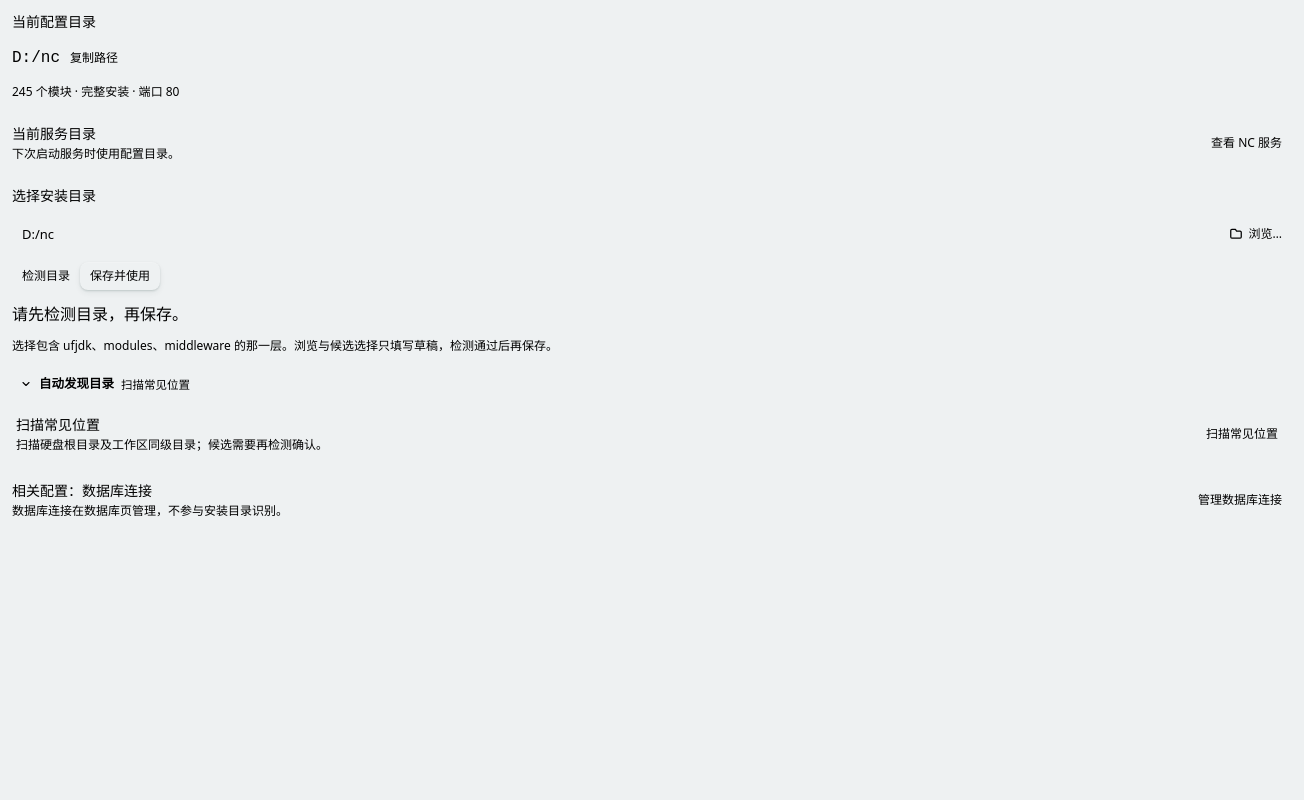
Test: NC 目录检测与确认 › 浏览、候选选择与输入都只形成草稿，检测与确认后才写入
Click the button "浏览…" at (1255,234), box [1218,220,1292,248]
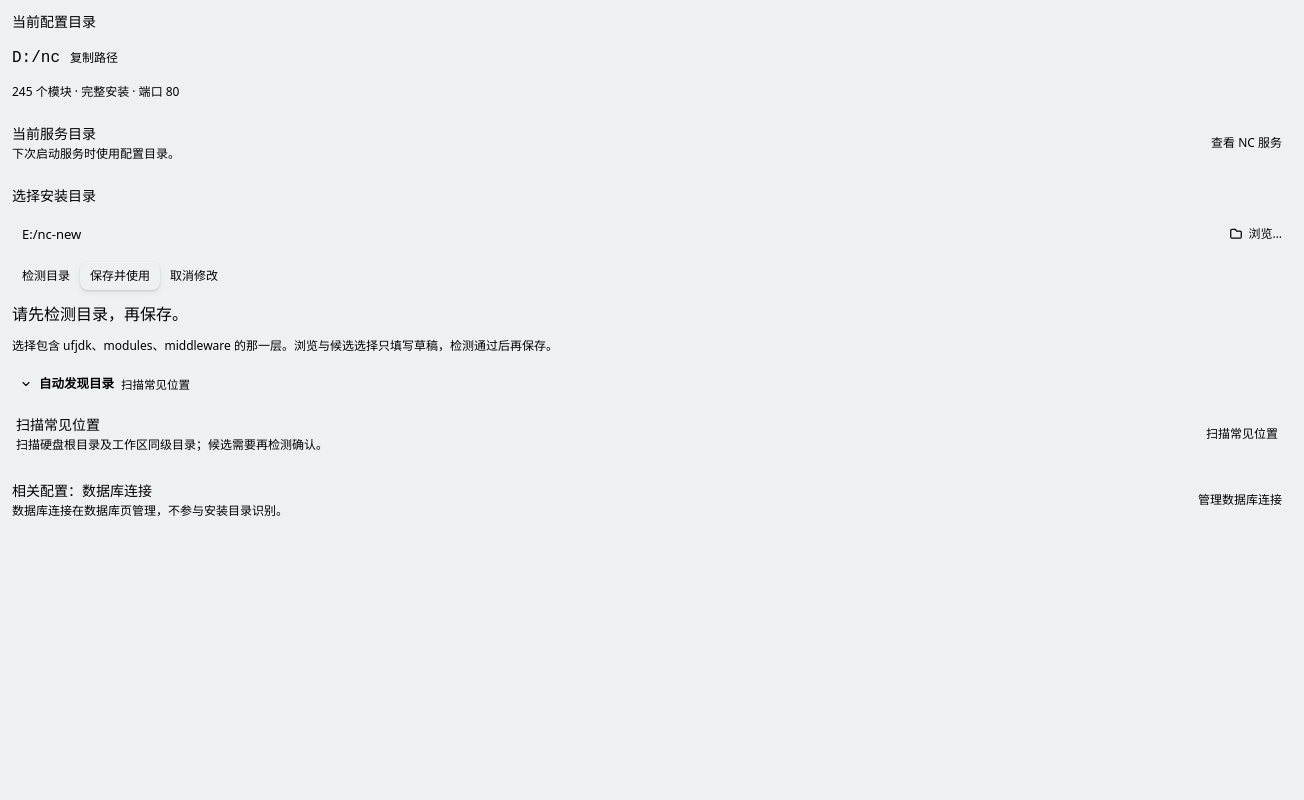
Expected: the button "保存并使用" is disabled, [80,262,160,290]
Expected: the field named "NC 安装目录" holds "E:/nc-new", [12,218,1210,250]
Click the button "检测目录" at (46,276), box [12,262,80,290]
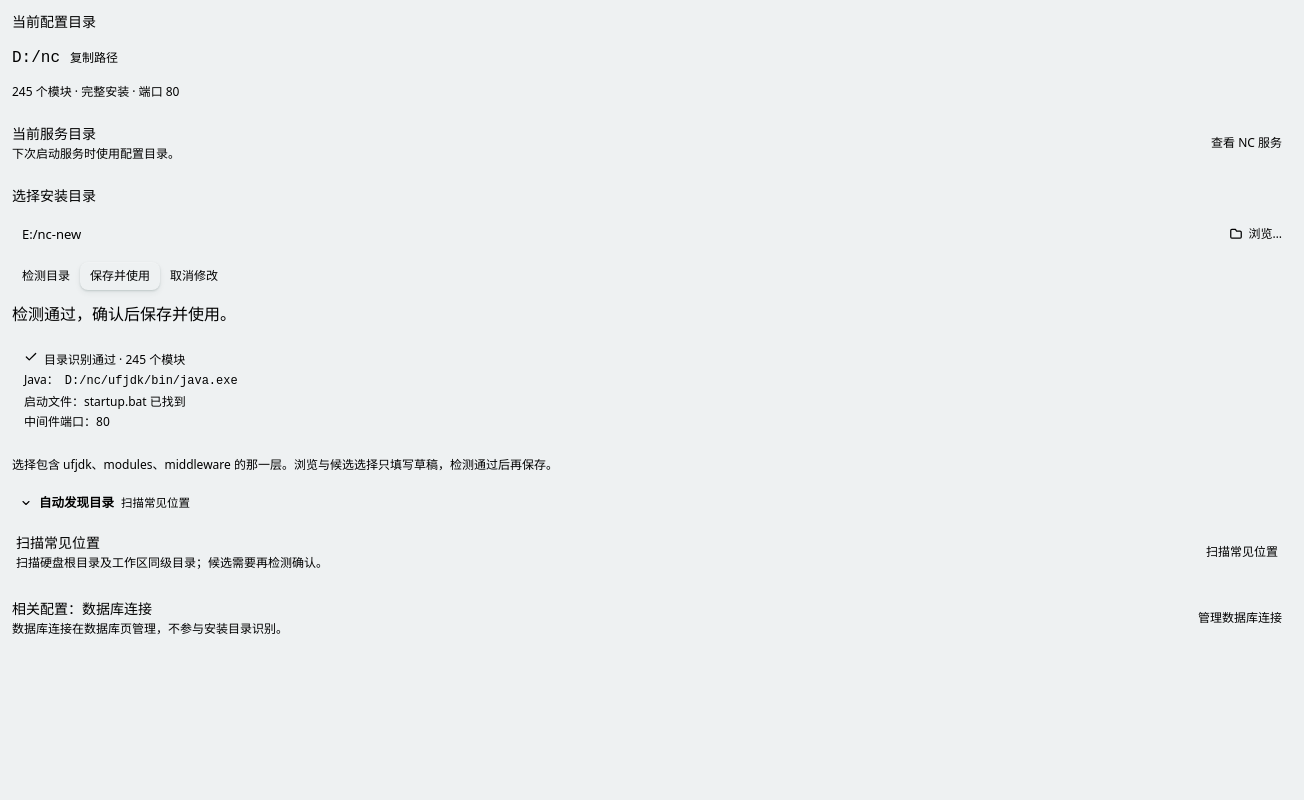
Expected: the text "检测通过" is shown, [12,303,236,325]
Click the button "保存并使用" at (120,276), box [80,262,160,290]
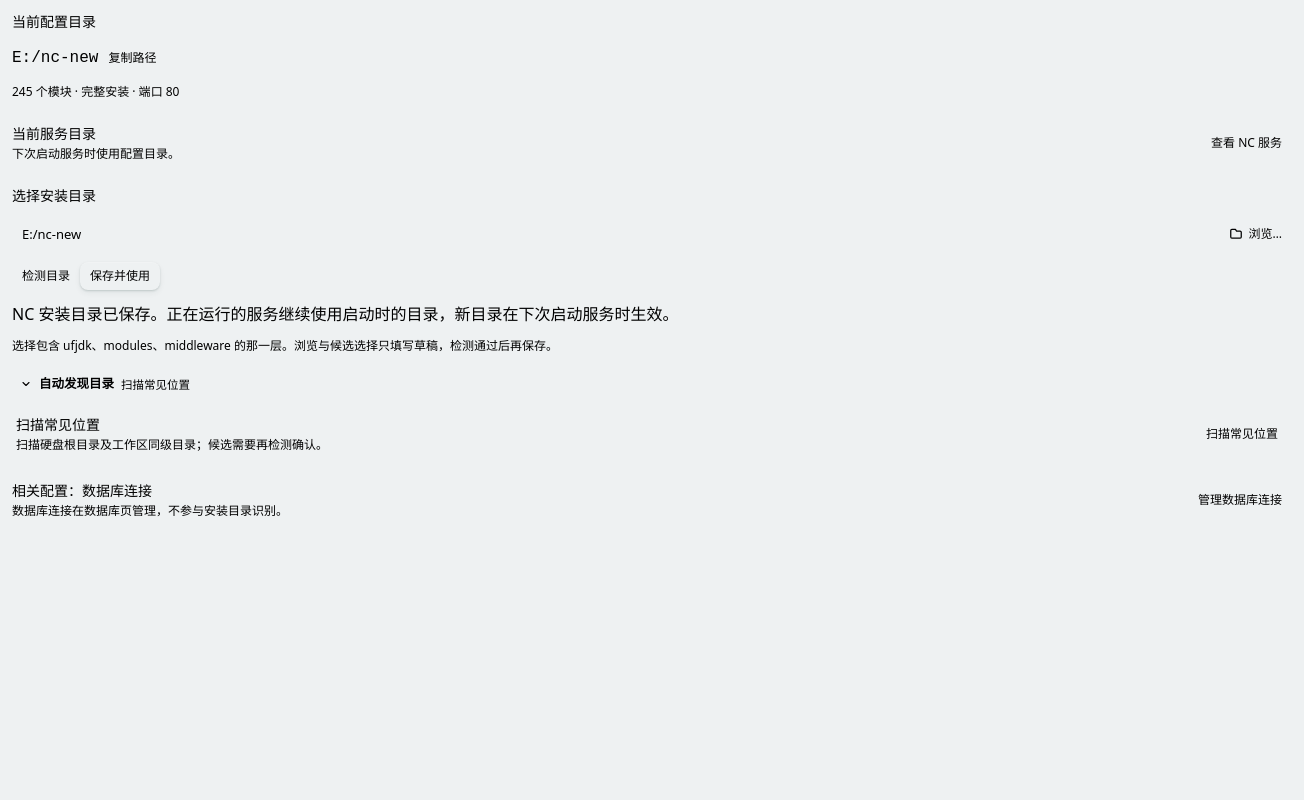
Expected: the text "已保存" is shown, [12,303,678,325]
